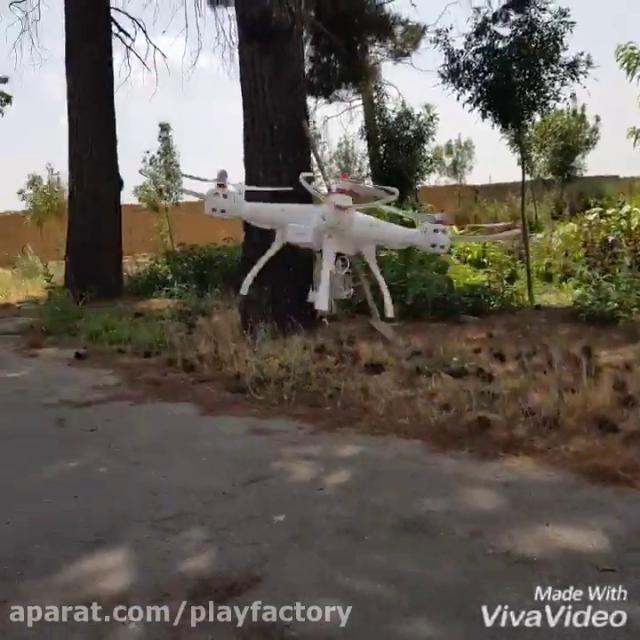drone: (133, 167, 522, 317)
